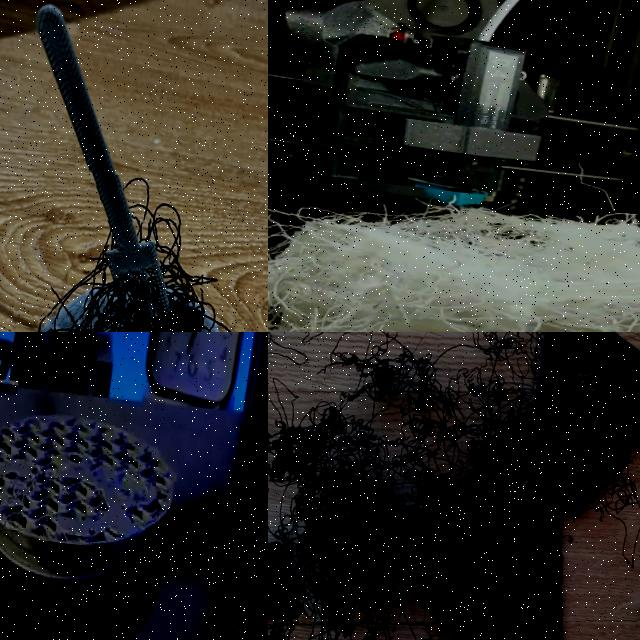spaghetti: (268, 332, 640, 640), (268, 154, 640, 332), (0, 164, 268, 332)
